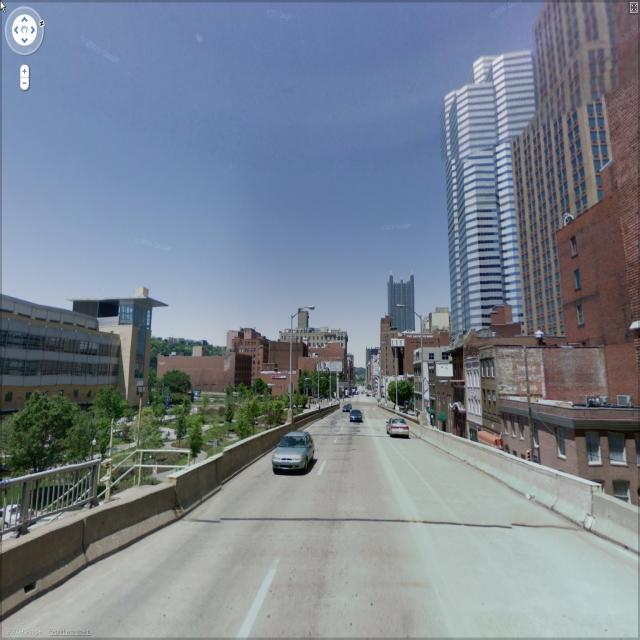b_1: (440, 56, 525, 326), (567, 33, 640, 338), (522, 12, 591, 326), (1, 282, 164, 411), (503, 392, 640, 502), (276, 325, 356, 402), (157, 348, 250, 402), (484, 351, 516, 452), (432, 365, 468, 449), (467, 360, 497, 450), (453, 349, 478, 456), (237, 329, 275, 387), (414, 346, 436, 428), (388, 268, 413, 338), (358, 344, 386, 400)
